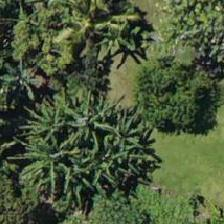coconut_tree: (61, 0, 151, 72)
